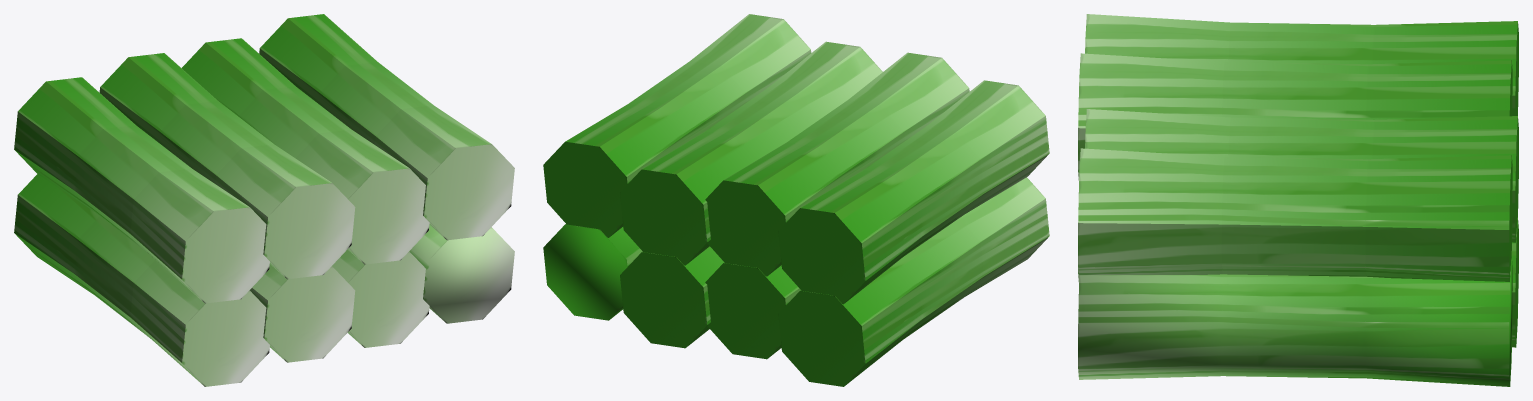
The model's file is Spring onions.FBX.
The picture shows the model from 3 angles, left to right: view 1: azimuth 30°, elevation 25°; view 2: azimuth 150°, elevation 25°; view 3: azimuth 270°, elevation 25°; orthographic projection. The views are drawn at different scales.
Visible parts, largest first — view 1: 파; view 2: 파; view 3: 파.
Part boxes in pixels (x1,y1,x2,y2): 파: (14,14,514,386); 파: (543,14,1049,386); 파: (1078,14,1518,386).
Bounding box in the file's own units: 18.4 × 9.64 × 17.06.
